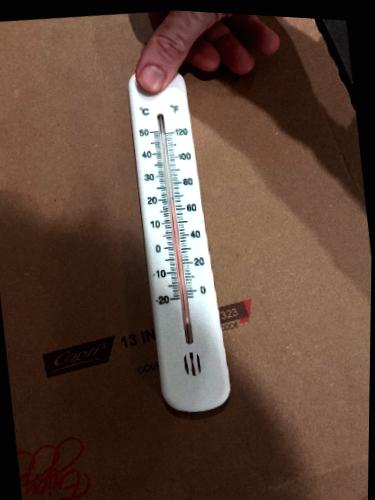thermo: (129, 66, 232, 413)
